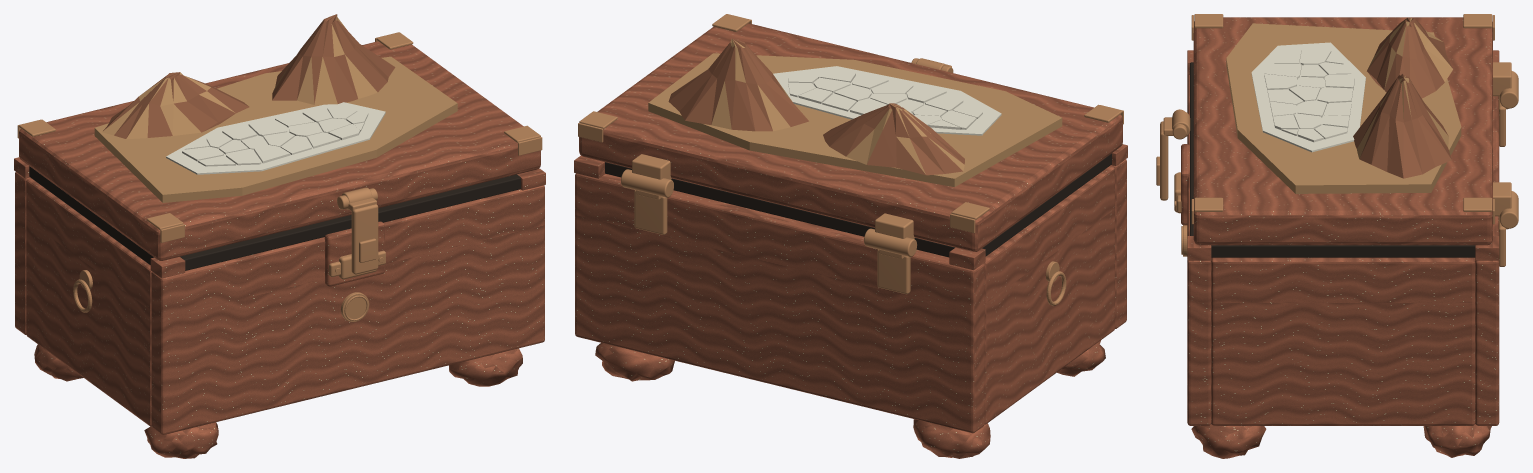
The model's file is chile.glb.
3 renders of one model, left to right at view 1: azimuth 30°, elevation 25°; view 2: azimuth 150°, elevation 25°; view 3: azimuth 270°, elevation 25°, orthographic. The views are drawn at different scales.
Parts seen in each view (by area): view 1: Desert shell / front, Lid / polished slab, Desert shell / side, Terrain / desert island, Ridge / eastern volcanic silhouette, Ridge / western folded desert, Mineral seam / long, Salt basin / bed, Desert shell / rear, Desert stone foot, Desert stone foot.002, Latch / lifting hasp (+5 smaller); view 2: Desert shell / rear, Lid / polished slab, Desert shell / side, Terrain / desert island, Ridge / eastern volcanic silhouette, Ridge / western folded desert, Mineral seam / long.001, Salt basin / bed, Desert stone foot.001, Desert stone foot.003, Desert shell / front, Mineral seam / side (+8 smaller); view 3: Desert shell / side.001, Lid / polished slab, Terrain / desert island, Ridge / eastern volcanic silhouette, Desert shell / rear, Desert shell / front, Ridge / western folded desert, Salt basin / bed, Mineral seam / side.001, Desert stone foot.002, Desert stone foot.003, Mineral seam / long (+19 smaller).
Boxes of the visible parts, x1,y1,x2,y2 form: Desert shell / front: [151, 185, 544, 434]; Lid / polished slab: [19, 41, 540, 260]; Desert shell / side: [26, 178, 152, 426]; Terrain / desert island: [94, 56, 457, 202]; Ridge / eastern volcanic silhouette: [272, 14, 395, 104]; Ridge / western folded desert: [102, 72, 249, 139]; Mineral seam / long: [180, 174, 520, 270]; Salt basin / bed: [166, 102, 385, 174]; Desert shell / rear: [15, 172, 30, 334]; Desert stone foot: [144, 422, 218, 458]; Desert stone foot.002: [449, 348, 522, 386]; Latch / lifting hasp: [351, 204, 378, 274]; Desert shell / rear: [575, 173, 984, 433]; Lid / polished slab: [579, 23, 1122, 251]; Desert shell / side: [984, 166, 1114, 424]; Terrain / desert island: [648, 53, 1062, 187]; Ridge / eastern volcanic silhouette: [668, 38, 808, 131]; Ridge / western folded desert: [823, 103, 964, 175]; Mineral seam / long.001: [605, 162, 954, 257]; Salt basin / bed: [773, 66, 1001, 135]; Desert stone foot.001: [913, 419, 990, 458]; Desert stone foot.003: [595, 342, 674, 381]; Desert shell / front: [1110, 159, 1126, 328]; Mineral seam / side: [982, 153, 1111, 256]; Desert shell / side.001: [1211, 257, 1475, 425]; Lid / polished slab: [1193, 17, 1492, 245]; Terrain / desert island: [1226, 23, 1461, 193]; Ridge / eastern volcanic silhouette: [1353, 74, 1451, 178]; Desert shell / rear: [1475, 96, 1499, 425]; Desert shell / front: [1187, 75, 1211, 425]; Ridge / western folded desert: [1367, 17, 1453, 98]; Salt basin / bed: [1251, 42, 1365, 152]; Mineral seam / side.001: [1211, 245, 1475, 257]; Desert stone foot.002: [1191, 424, 1266, 458]; Desert stone foot.003: [1423, 424, 1491, 457]; Mineral seam / long: [1190, 62, 1193, 235].
Size of the model in its own units: 3.79 by 2.99 by 2.88.
7 materials, 1 textured.
